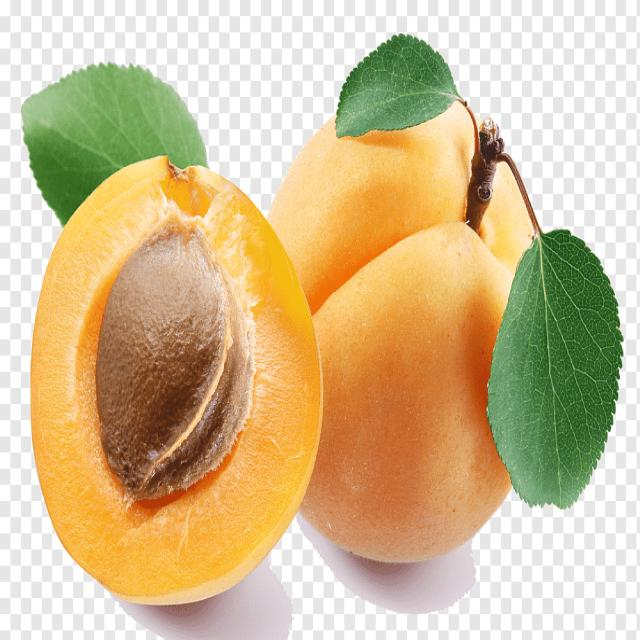Cekirdek: (96, 210, 255, 499)
Yaprak: (487, 229, 622, 507), (336, 34, 459, 136)
